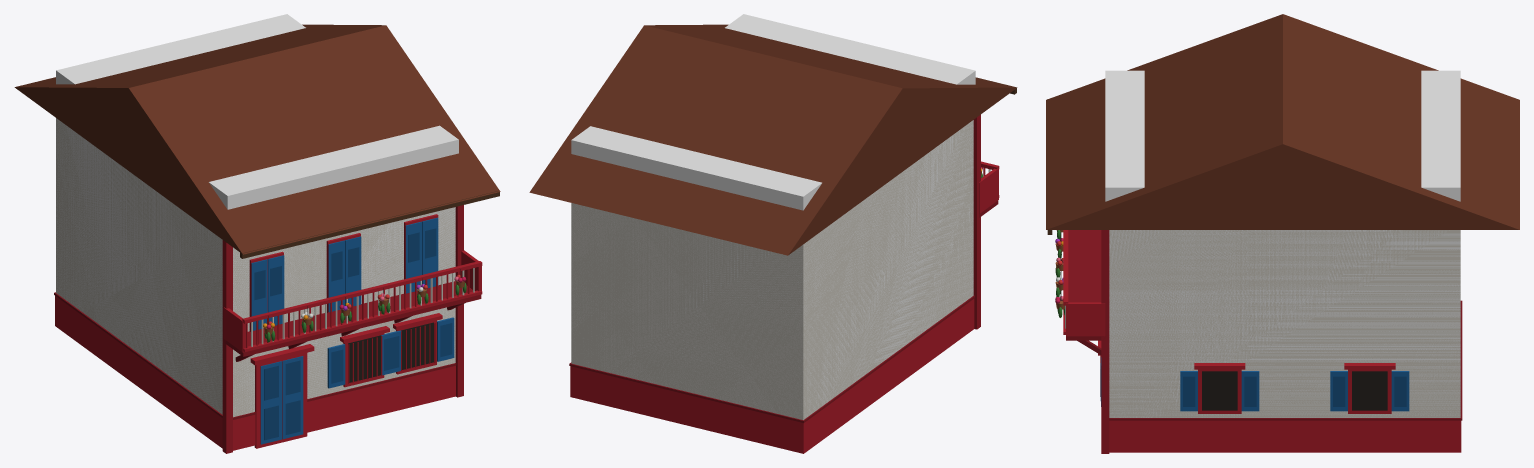
Rendered from casa_cafetera_rojo.glb.
3 renders of one model, left to right at view 1: azimuth 30°, elevation 25°; view 2: azimuth 150°, elevation 25°; view 3: azimuth 270°, elevation 25°, orthographic. The views are drawn at different scales.
Visible parts, largest first — view 1: casa_cafetera_rojo_Malla, COL_0; view 2: casa_cafetera_rojo_Malla, COL_0; view 3: casa_cafetera_rojo_Malla, COL_0.
Boxes of the visible parts, left/top/right/bottom form: casa_cafetera_rojo_Malla: left=14, top=24, right=500, bottom=453; COL_0: left=56, top=14, right=458, bottom=416; casa_cafetera_rojo_Malla: left=529, top=24, right=1017, bottom=453; COL_0: left=571, top=14, right=975, bottom=419; casa_cafetera_rojo_Malla: left=1046, top=14, right=1519, bottom=453; COL_0: left=1105, top=70, right=1460, bottom=417.
Bounding box in the file's own units: 7.8 × 8.88 × 12.
